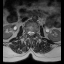CCS_normal: (30, 29, 32, 38)
LFS_normal: (34, 29, 36, 36)
LLS_normal: (32, 29, 34, 36)
RFS_normal: (25, 29, 28, 36)
RLS_normal: (28, 29, 30, 37)
